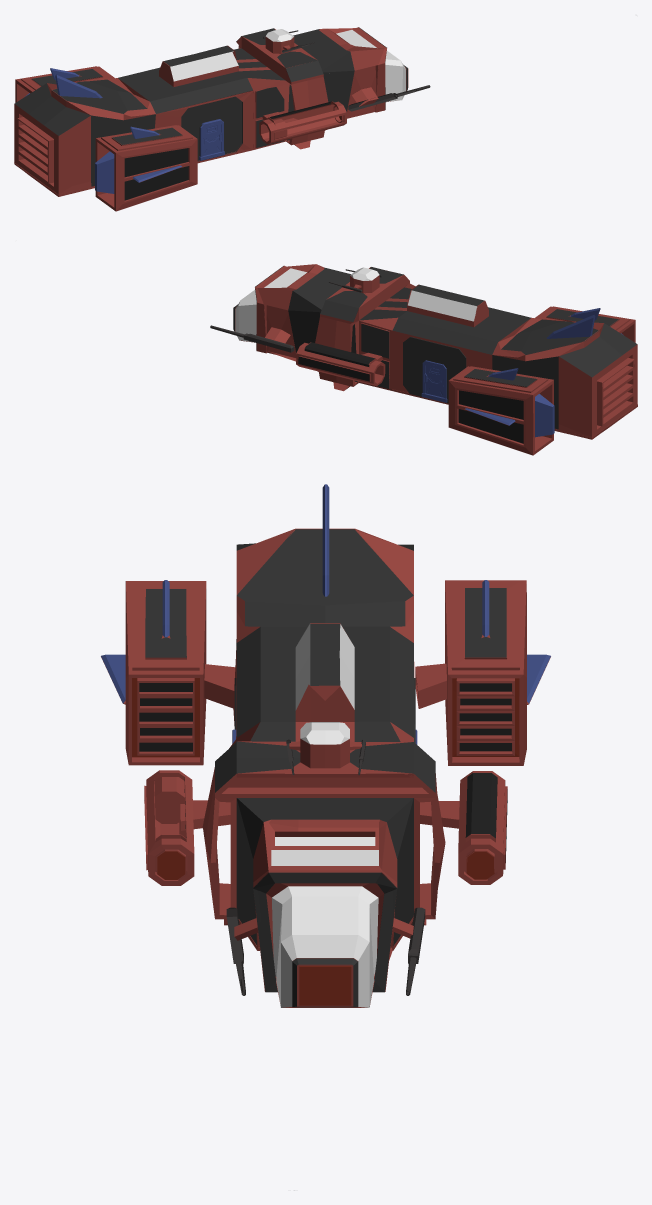
Rendered from Spaceship.fbx.
The picture shows the model from 3 angles, top to bottom: view 1: azimuth 30°, elevation 25°; view 2: azimuth 150°, elevation 25°; view 3: azimuth 270°, elevation 25°; orthographic projection. The views are drawn at different scales.
Parts seen in each view (by area): view 1: BlueWings; view 2: BlueWings; view 3: BlueWings.
Boxes of the visible parts, x1,y1,x2,y2 form: BlueWings: (14,27,430,211); BlueWings: (210,264,637,455); BlueWings: (101,484,550,1007).
Bounding box in the file's own units: 1668202 × 293139 × 546042.
